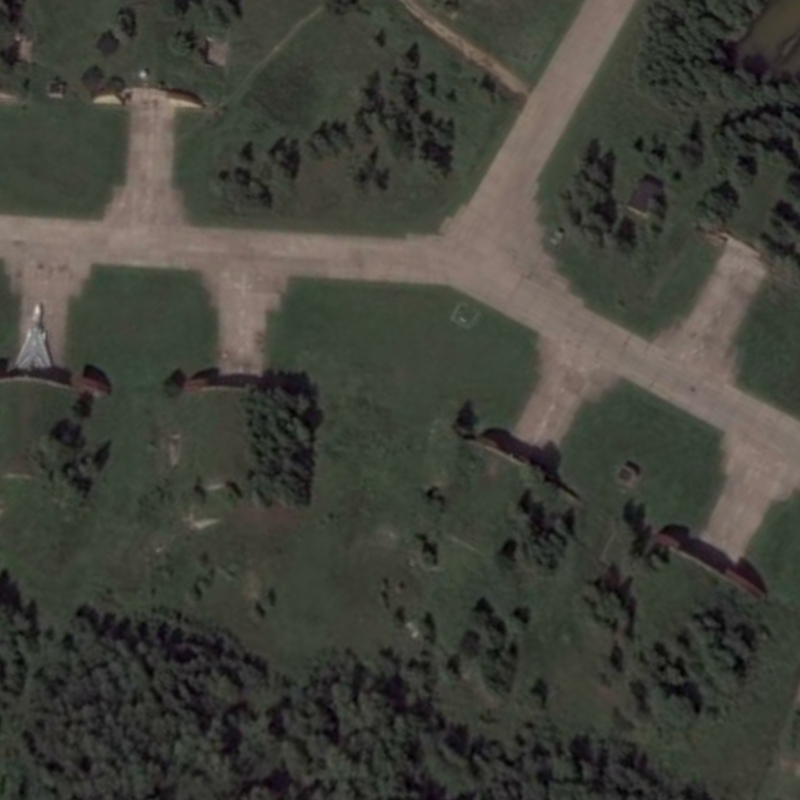A20: (13, 302, 55, 375)
